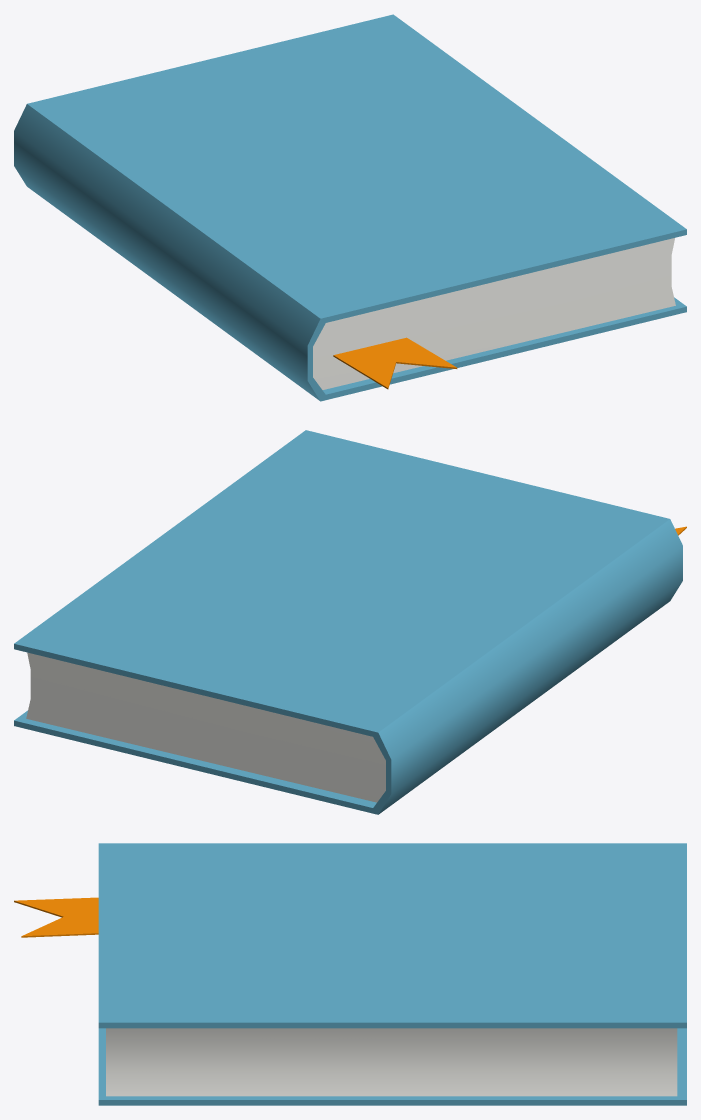
The model's file is Book_Closed.obj.
3 views of the same model, one above another, from view 1: azimuth 30°, elevation 25°; view 2: azimuth 150°, elevation 25°; view 3: azimuth 270°, elevation 25° (orthographic).
Parts seen in each view (by area): view 1: Book_Closed; view 2: Book_Closed; view 3: Book_Closed.
Boxes of the visible parts, x1=… form: Book_Closed: x1=14, y1=14, x2=686, y2=401; Book_Closed: x1=14, y1=430, x2=686, y2=814; Book_Closed: x1=14, y1=843, x2=686, y2=1105.
Bounding box in the file's own units: 0.2161 × 0.0451 × 0.3313.
